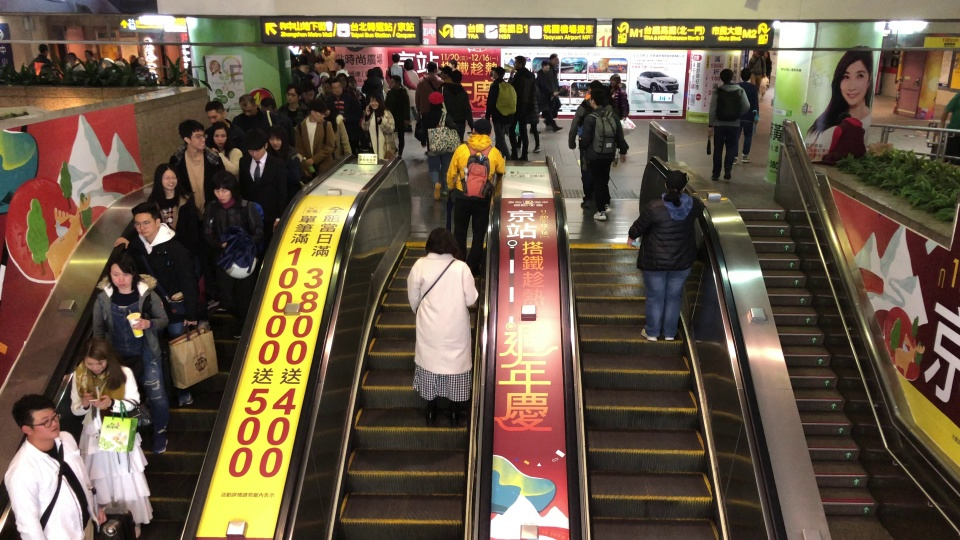person_head: (10, 392, 61, 441), (81, 337, 111, 374), (131, 202, 160, 236), (108, 254, 136, 288), (425, 226, 457, 254), (177, 119, 205, 148), (211, 169, 236, 201), (154, 162, 178, 191), (244, 129, 266, 159), (266, 125, 288, 151), (204, 99, 226, 124), (664, 170, 687, 192), (210, 123, 230, 146), (472, 117, 492, 137), (238, 93, 257, 114), (308, 101, 326, 122), (283, 83, 301, 103), (428, 91, 444, 111), (588, 89, 605, 107), (718, 67, 734, 83), (301, 83, 315, 101), (587, 79, 602, 94), (836, 111, 852, 125), (260, 97, 275, 111), (369, 93, 381, 110), (439, 66, 453, 80), (322, 101, 335, 116), (491, 66, 505, 79), (330, 79, 341, 95), (389, 74, 402, 87), (513, 55, 526, 68), (739, 67, 751, 81), (336, 73, 348, 86), (426, 60, 438, 73), (298, 62, 309, 74), (334, 58, 345, 70), (373, 66, 385, 77), (609, 73, 620, 85), (38, 42, 48, 55), (403, 58, 414, 69), (322, 80, 331, 93), (135, 55, 146, 65), (390, 53, 401, 63), (67, 51, 76, 63), (366, 68, 378, 77), (540, 60, 550, 70), (84, 49, 93, 60), (550, 53, 559, 64), (315, 53, 324, 62), (449, 59, 457, 69), (321, 72, 328, 83), (764, 51, 771, 58), (752, 50, 760, 55), (325, 45, 330, 51), (306, 44, 311, 49)
person_vbox: (112, 162, 211, 337), (69, 337, 153, 538), (92, 255, 171, 455), (126, 202, 201, 406), (3, 393, 107, 540), (406, 226, 479, 429), (625, 170, 705, 339), (167, 119, 226, 311), (210, 169, 265, 339), (446, 118, 504, 278), (577, 89, 630, 221), (567, 79, 619, 209), (238, 129, 291, 232), (706, 68, 750, 181), (418, 91, 458, 200), (292, 101, 337, 177), (483, 66, 517, 162), (810, 111, 868, 166), (507, 55, 536, 161), (414, 60, 444, 154), (326, 79, 362, 154), (733, 66, 760, 163), (529, 61, 564, 134), (266, 125, 303, 193), (360, 93, 397, 156), (384, 75, 411, 156), (260, 96, 295, 147), (231, 94, 276, 132), (210, 123, 242, 176), (322, 100, 351, 158), (202, 101, 244, 139), (938, 92, 960, 164), (277, 83, 309, 127), (402, 57, 420, 121), (386, 53, 416, 91), (608, 74, 630, 120), (27, 43, 53, 76), (360, 69, 384, 102), (746, 49, 766, 88), (758, 50, 772, 100), (66, 52, 84, 73), (322, 44, 336, 71), (314, 53, 328, 73), (334, 57, 348, 76), (303, 43, 315, 59)
